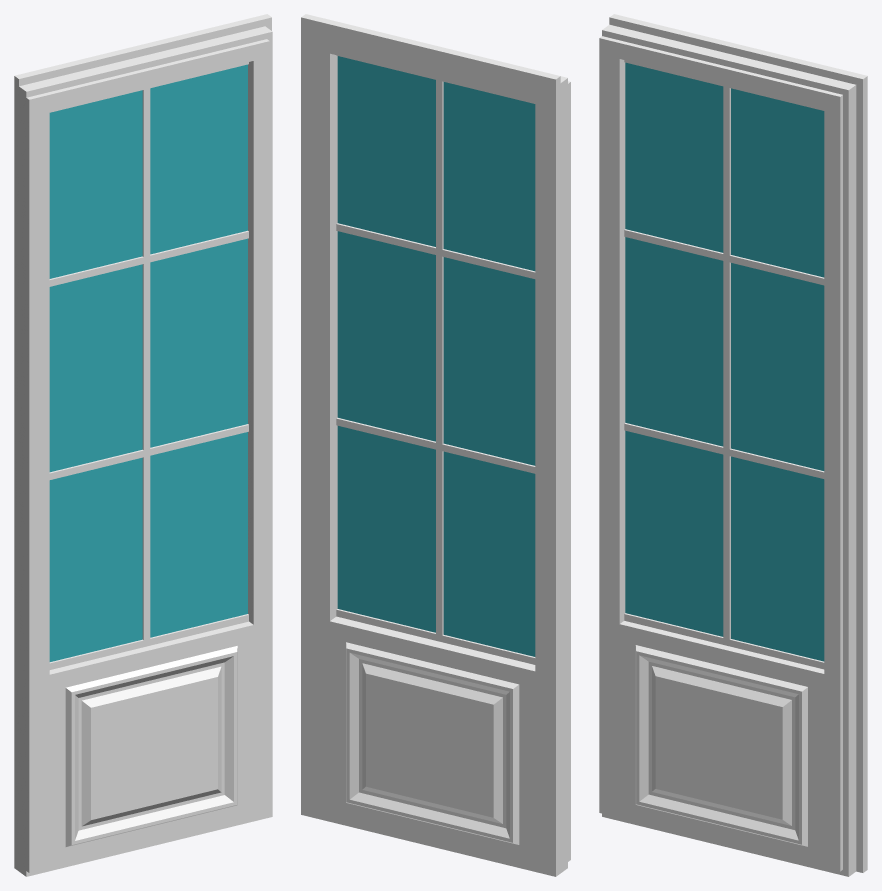
File: Mesh_Door_04_Left.FBX
3 renders of one model, left to right at view 1: azimuth 30°, elevation 25°; view 2: azimuth 150°, elevation 25°; view 3: azimuth 330°, elevation 25°, orthographic.
Parts seen in each view (by area): view 1: Mesh_Door_04_Left; view 2: Mesh_Door_04_Left; view 3: Mesh_Door_04_Left.
Part boxes in pixels (x1=…): Mesh_Door_04_Left: x1=14, y1=14, x2=272, y2=876; Mesh_Door_04_Left: x1=301, y1=14, x2=570, y2=876; Mesh_Door_04_Left: x1=599, y1=14, x2=867, y2=876.
Bounding box in the file's own units: 78.6 × 235 × 11.
